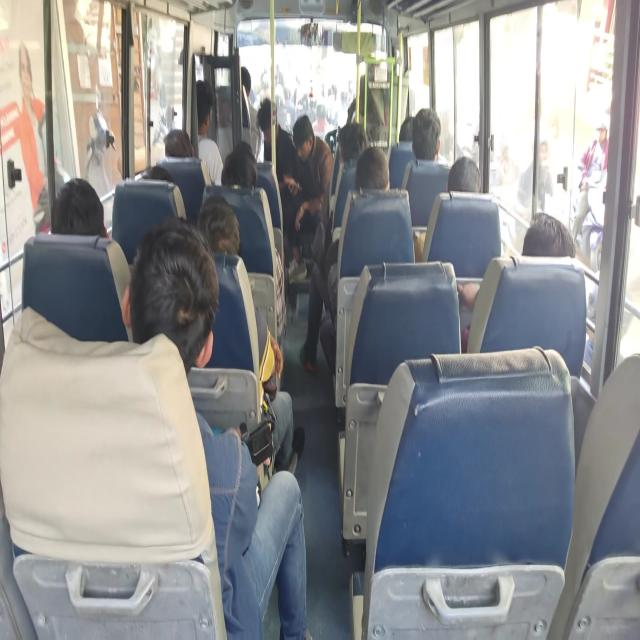person: (125, 216, 309, 638), (197, 194, 304, 476), (299, 146, 390, 373), (457, 211, 576, 351), (50, 177, 132, 335), (15, 40, 62, 234), (285, 114, 333, 281), (256, 97, 302, 268), (570, 104, 610, 268), (256, 97, 297, 190), (50, 177, 110, 239), (195, 79, 223, 186), (517, 139, 553, 214), (522, 211, 576, 258), (240, 66, 262, 160), (412, 107, 442, 161), (447, 156, 481, 192), (163, 128, 194, 158)
